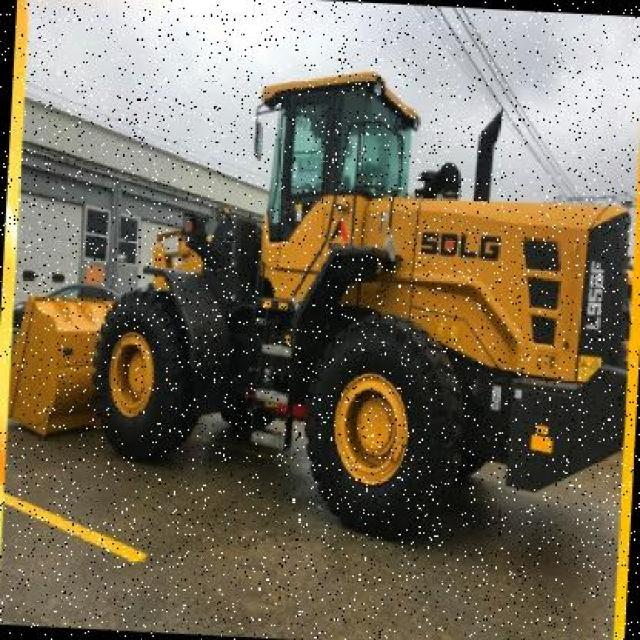buldozerpayloadergrader: (1, 41, 640, 532)
